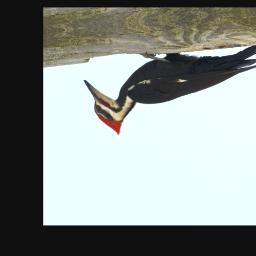Woodpecker: (79, 42, 256, 142)
